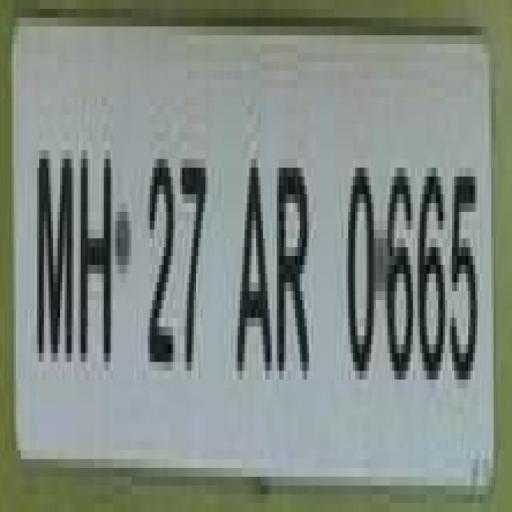number plate: (0, 0, 489, 503)
